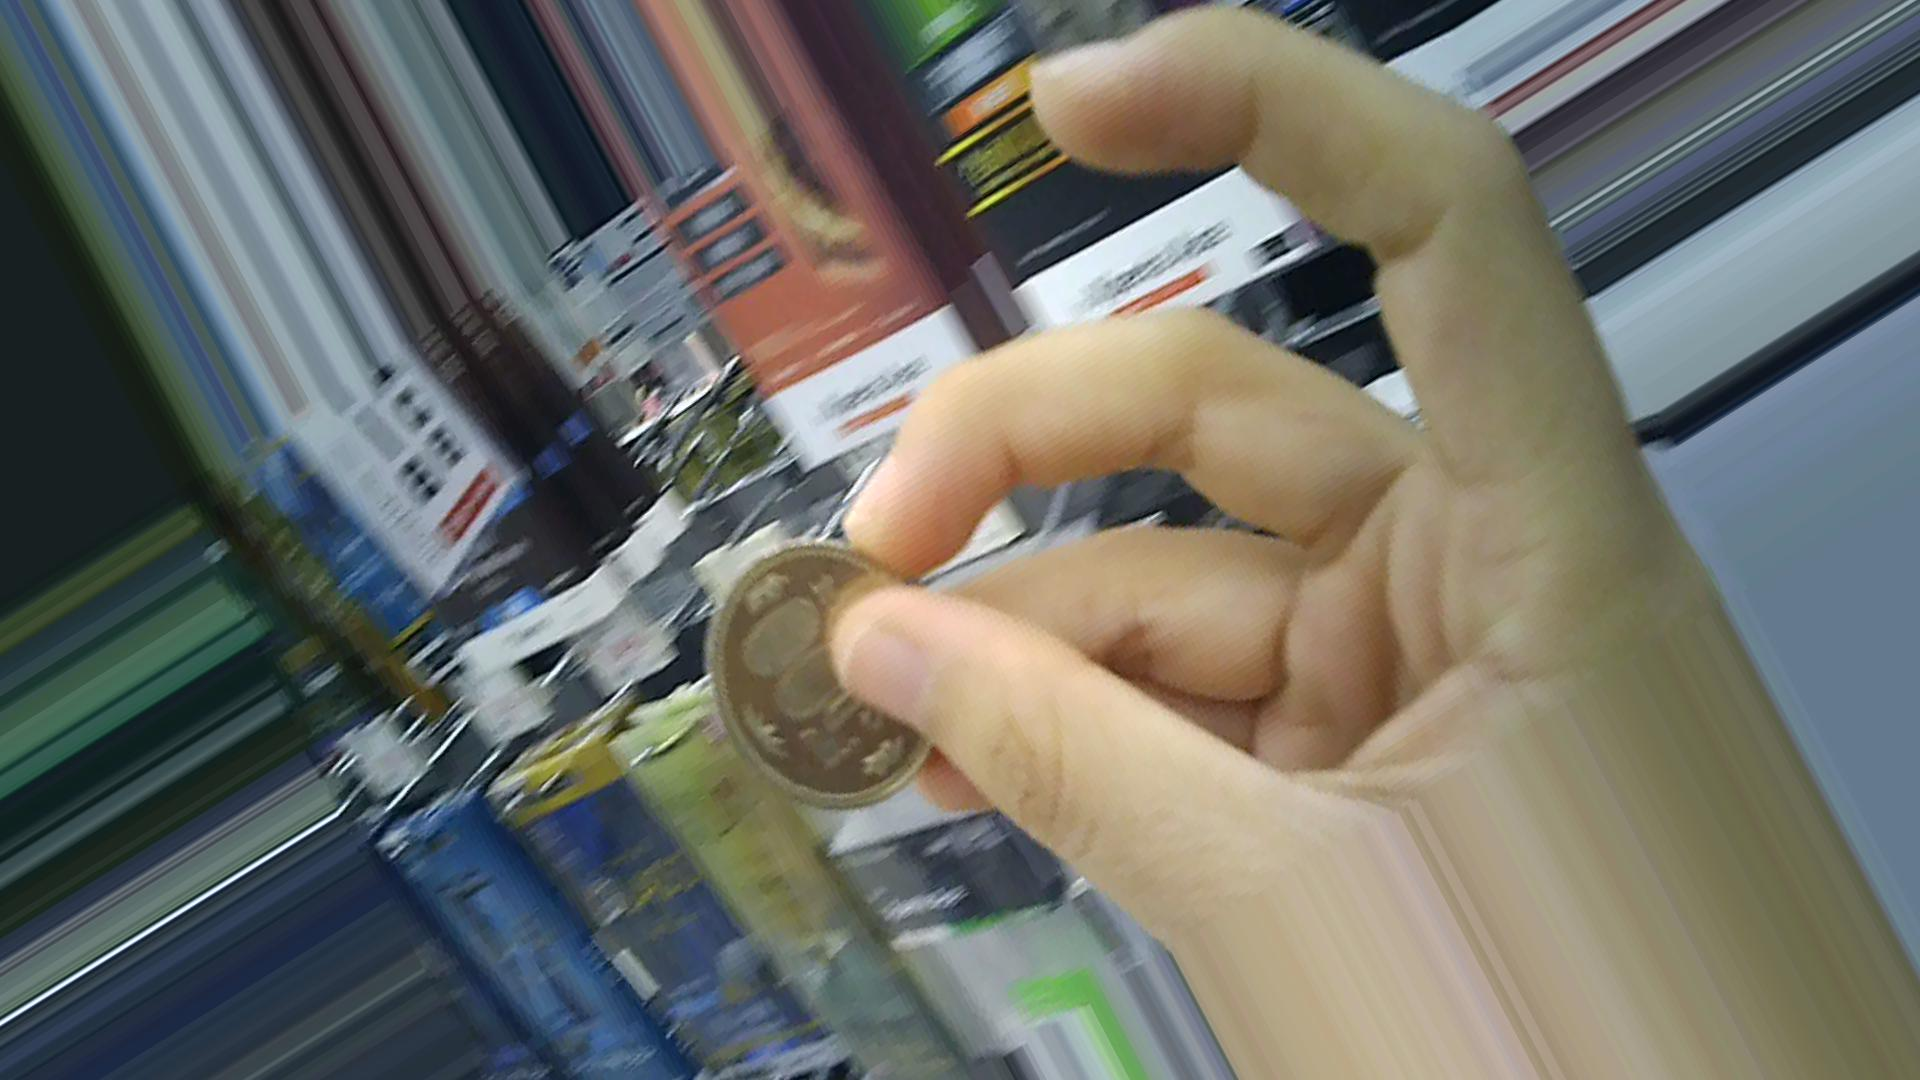500 Yen: (698, 535, 953, 822)
